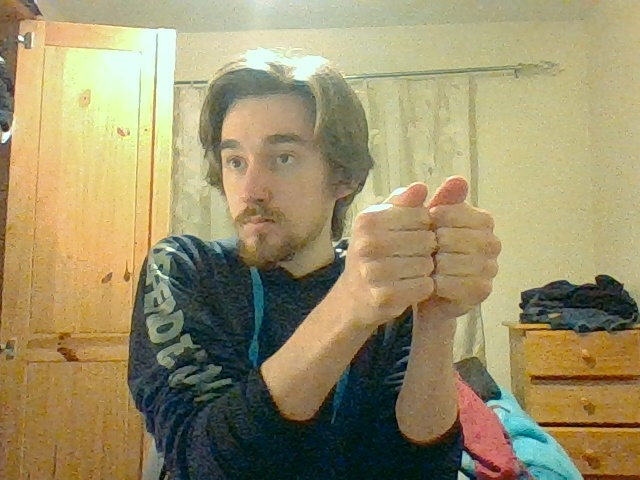brother: (352, 176, 503, 312)
